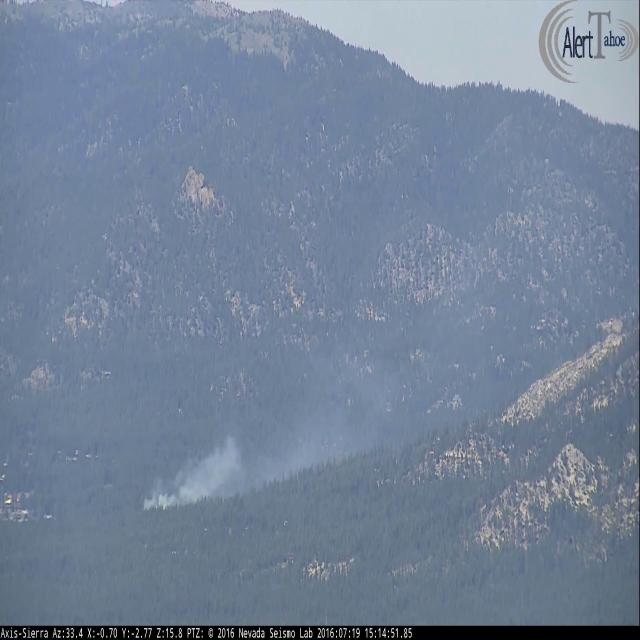smoke: (141, 316, 507, 515)
